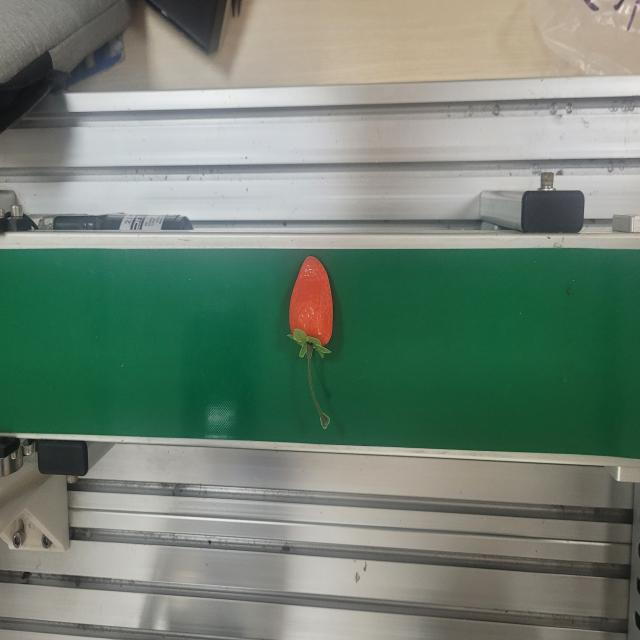Small Ripe Strawberry: (286, 250, 336, 432)
